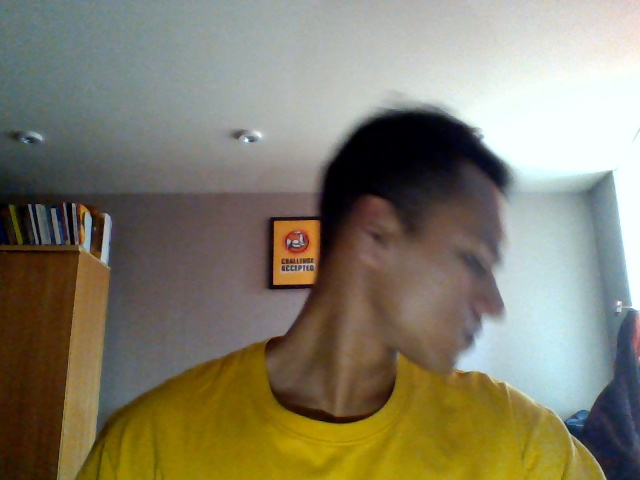no_mask: (318, 260, 520, 378)
